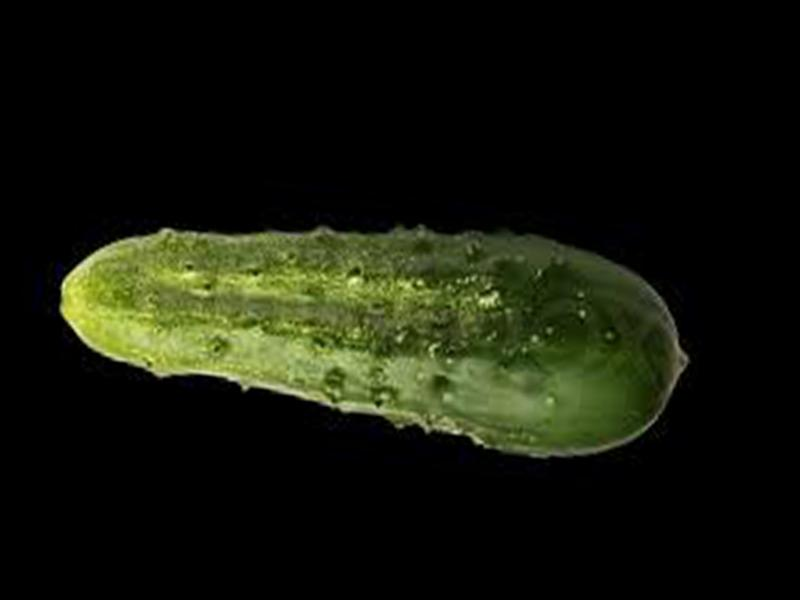Cucumber: (49, 176, 700, 473)
